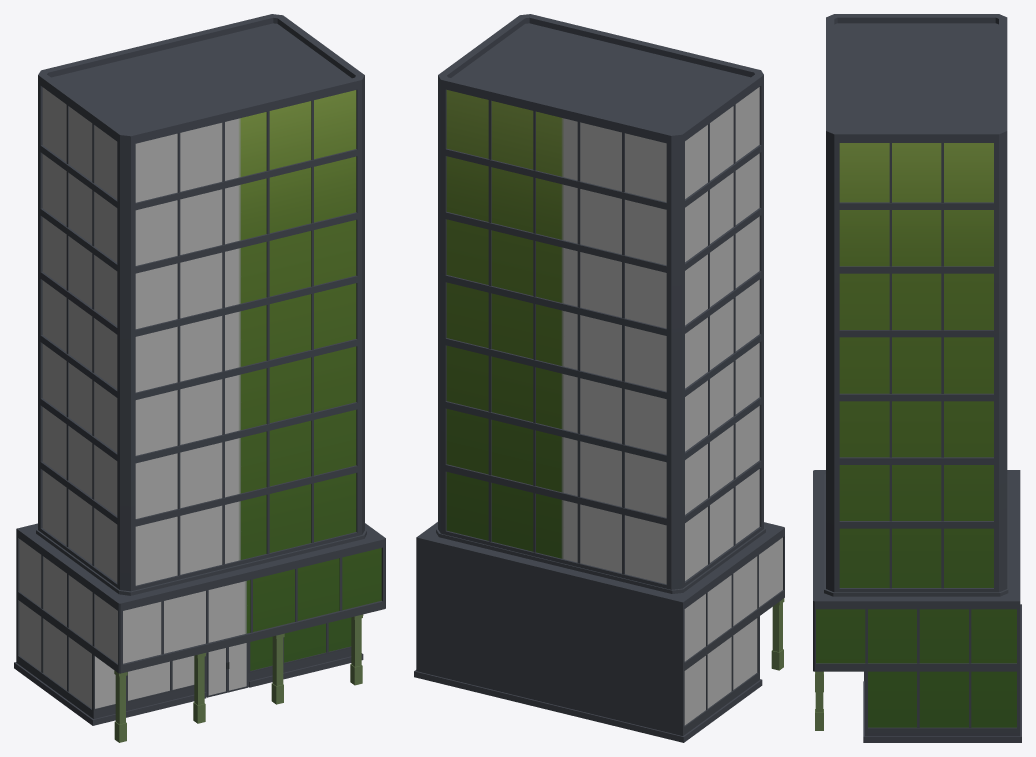
The model's file is House_46.fbx.
The picture shows the model from 3 angles, left to right: view 1: azimuth 30°, elevation 25°; view 2: azimuth 150°, elevation 25°; view 3: azimuth 270°, elevation 25°; orthographic projection.
Parts seen in each view (by area): view 1: House_46; view 2: House_46; view 3: House_46.
Boxes of the visible parts, box(x1,y1,x2,y2) form: House_46: box(14, 14, 385, 742); House_46: box(414, 14, 784, 742); House_46: box(813, 14, 1021, 742).
Bounding box in the file's own units: 12.14 × 25.67 × 8.06.
